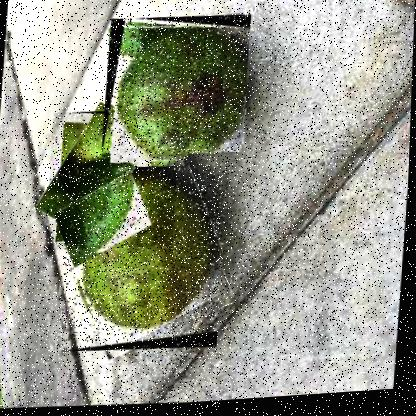guava: (59, 161, 231, 358), (102, 12, 252, 163), (44, 106, 182, 255)
